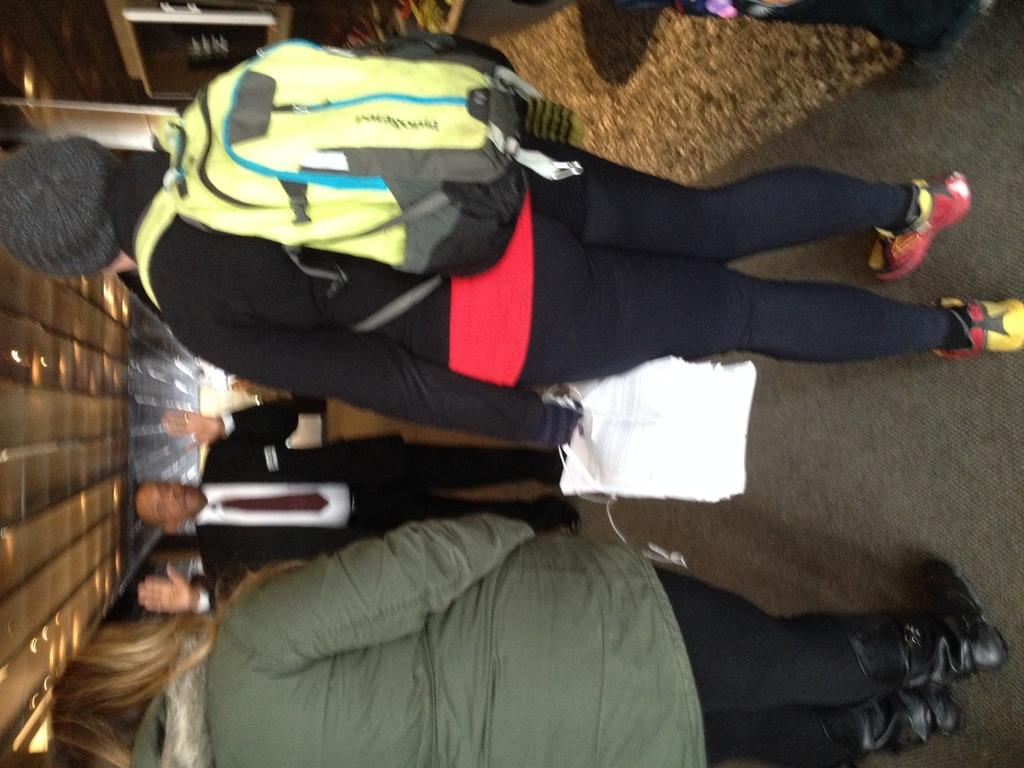Luggage-and-bags: (129, 53, 598, 344)
